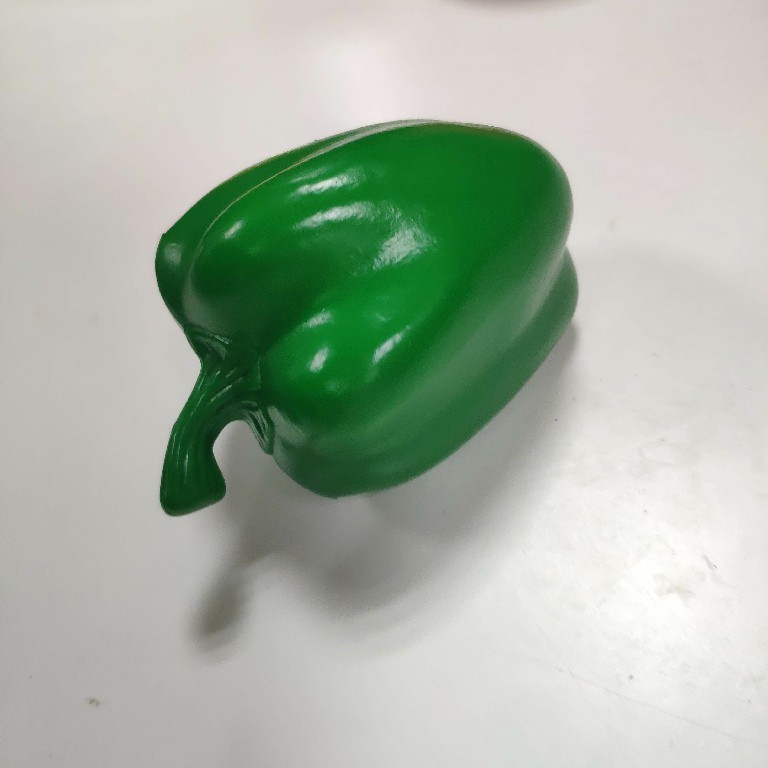fruit_pepper: (148, 114, 587, 522)
